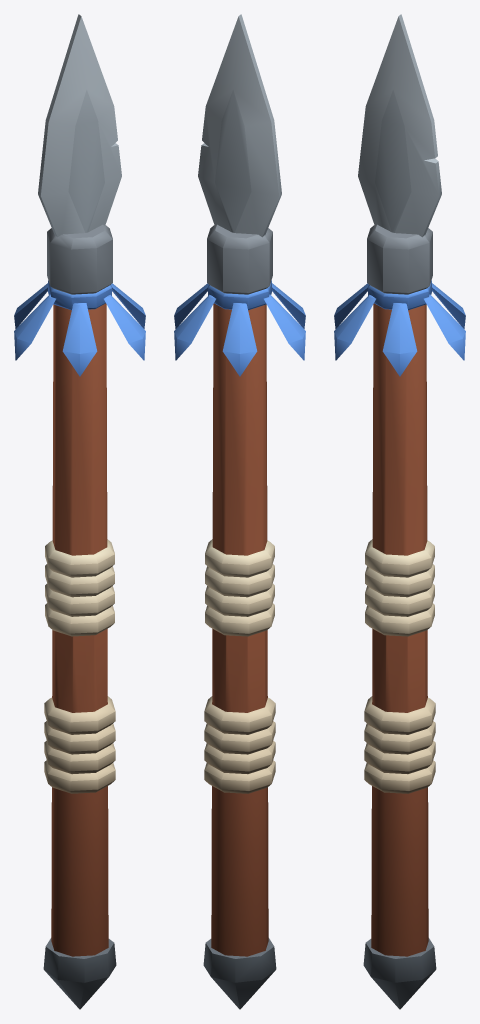
Rendered from spear_steel.glb.
3 renders of one model, left to right at view 1: azimuth 30°, elevation 25°; view 2: azimuth 150°, elevation 25°; view 3: azimuth 330°, elevation 25°, orthographic.
Parts seen in each view (by area): view 1: Item; view 2: Item; view 3: Item.
Boxes of the visible parts, box(x1,y1,x2,y2) form: Item: box(14, 14, 145, 1009); Item: box(174, 14, 305, 1009); Item: box(334, 14, 465, 1009).
Size of the model in its own units: 0.4121 by 3.04 by 0.3651.
Materials: 2 (2 with a texture image).
